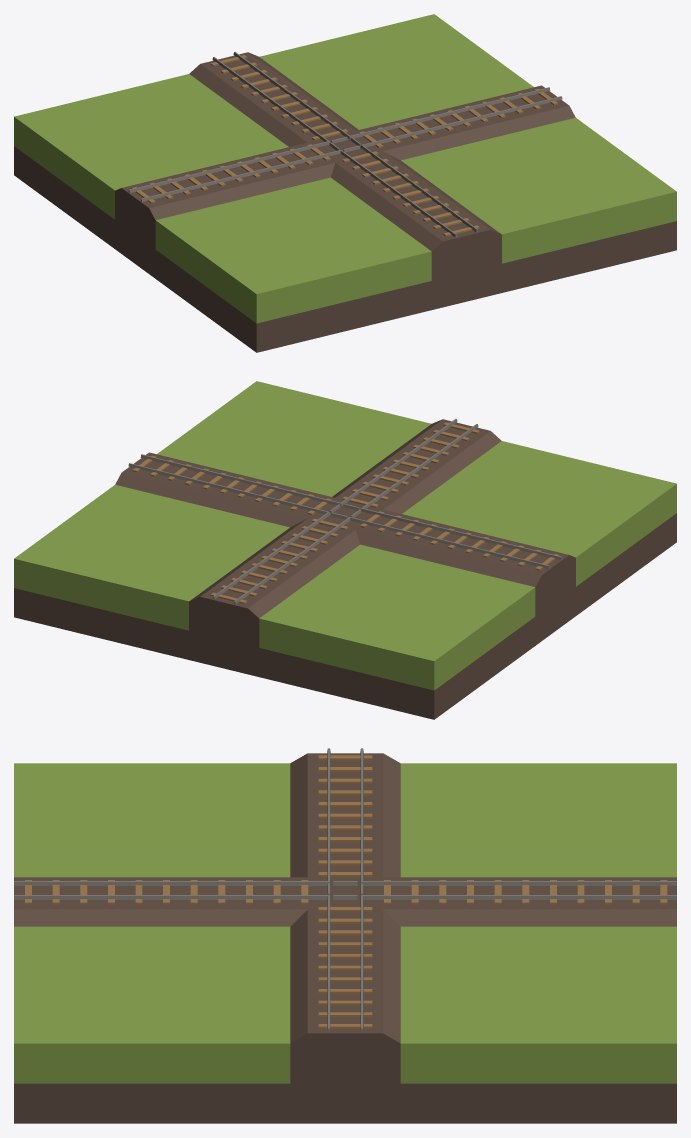
The model's file is rail-tile-crossing.fbx.
The picture shows the model from 3 angles, top to bottom: view 1: azimuth 30°, elevation 25°; view 2: azimuth 150°, elevation 25°; view 3: azimuth 270°, elevation 25°; orthographic projection. The views are drawn at different scales.
Visible parts, largest first — view 1: rail-tile_crossing; view 2: rail-tile_crossing; view 3: rail-tile_crossing.
Part boxes in pixels (x1,y1,x2,y2): rail-tile_crossing: (14, 14, 676, 352); rail-tile_crossing: (14, 381, 676, 719); rail-tile_crossing: (14, 748, 676, 1123).
Bounding box in the file's own units: 3000 × 475 × 3000.
